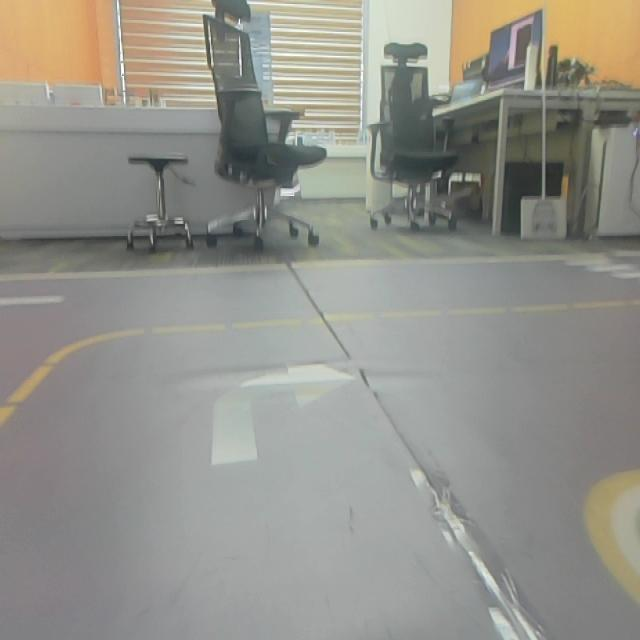left_lane: (0, 346, 71, 428)
right_lane: (585, 490, 640, 599)
